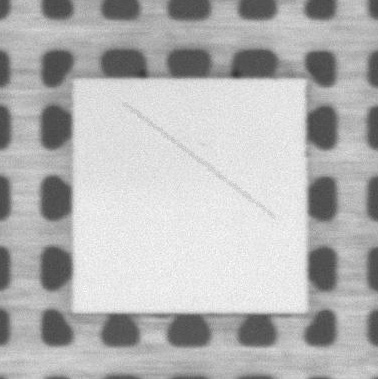DIE_CRACK: (124, 103, 274, 218)
